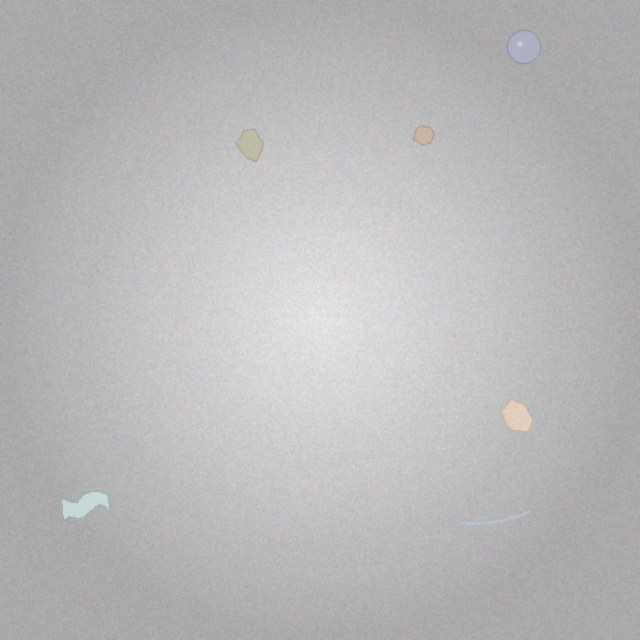fiber: (458, 508, 534, 527)
film: (62, 491, 110, 520)
fragment: (501, 400, 533, 431), (235, 129, 263, 161), (413, 126, 434, 144)
pellet: (507, 30, 540, 64)
